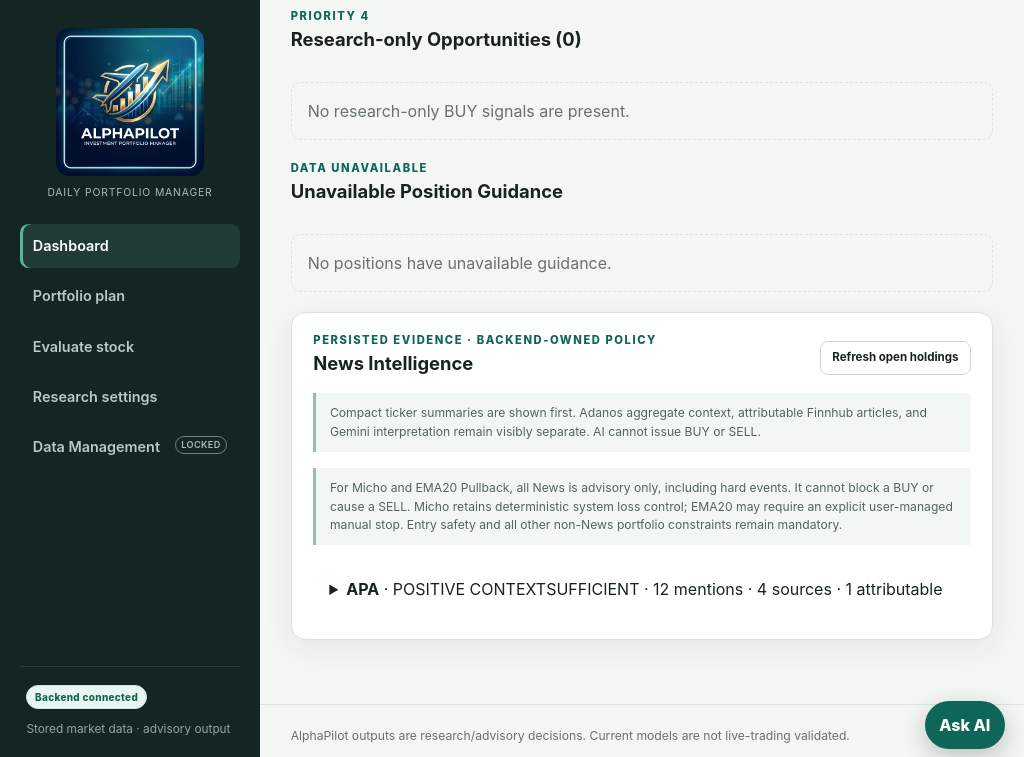
Test case: News Intelligence renders persisted classification provenance and refreshes holdings only
(page scrolled)
Check: the heading "News Intelligence" is shown, box [313,352,473,374]
Click the heading that starts with "APA": (642, 589) [329,577,955,601]
(page scrolled)
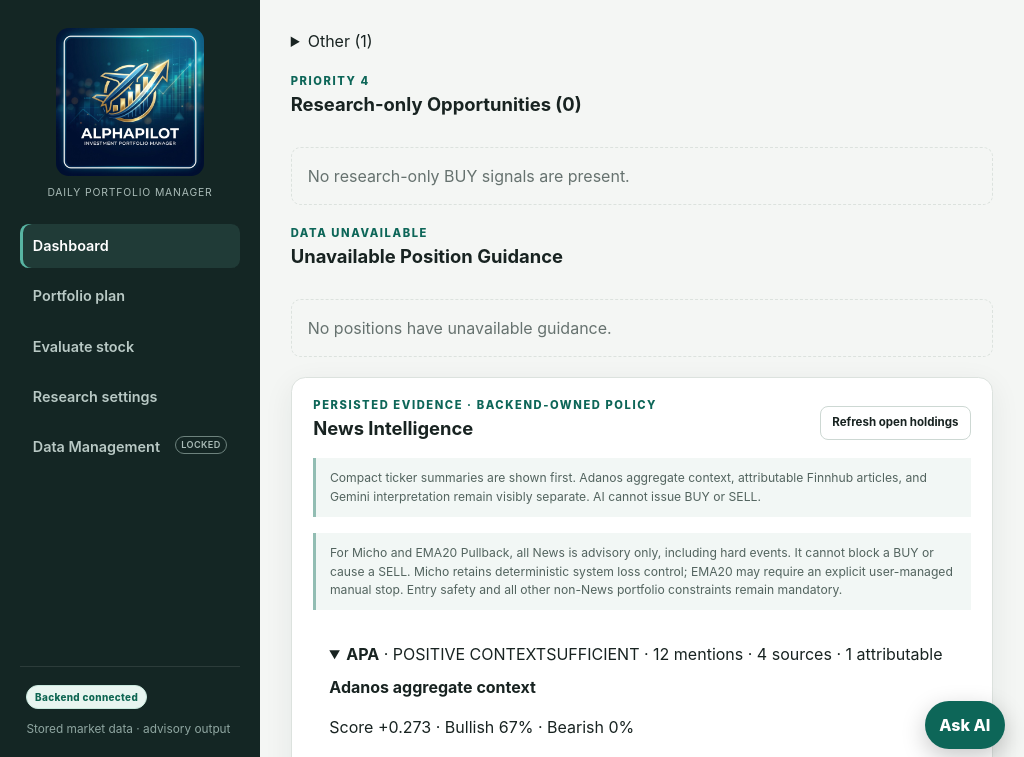
Check: the text "cannot issue BUY or SELL" is shown, box [330,470,927,504]
Check: the heading "Adanos aggregate context" is shown, box [329,677,536,697]
Click the button "Refresh open holdings": (895, 423) [820,406,971,440]
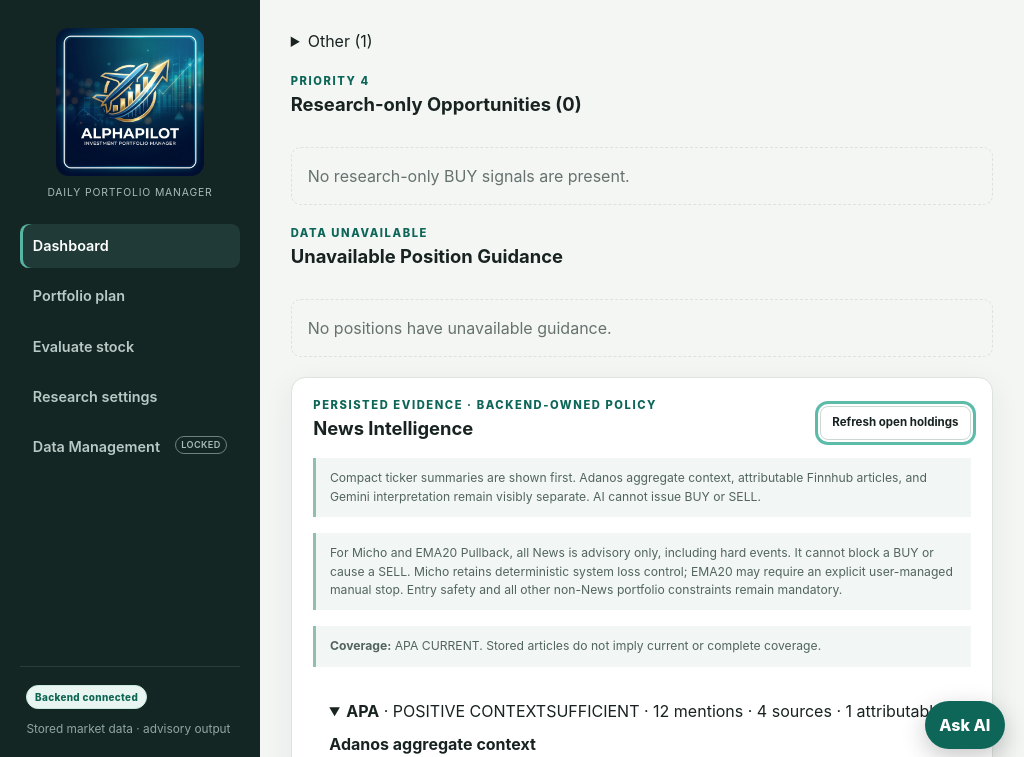
Check: the text "APA CURRENT" is shown, box [395,638,479,653]
Check: the text "Stored articles do not imply current or complete coverage" is shown, box [479,638,821,653]
